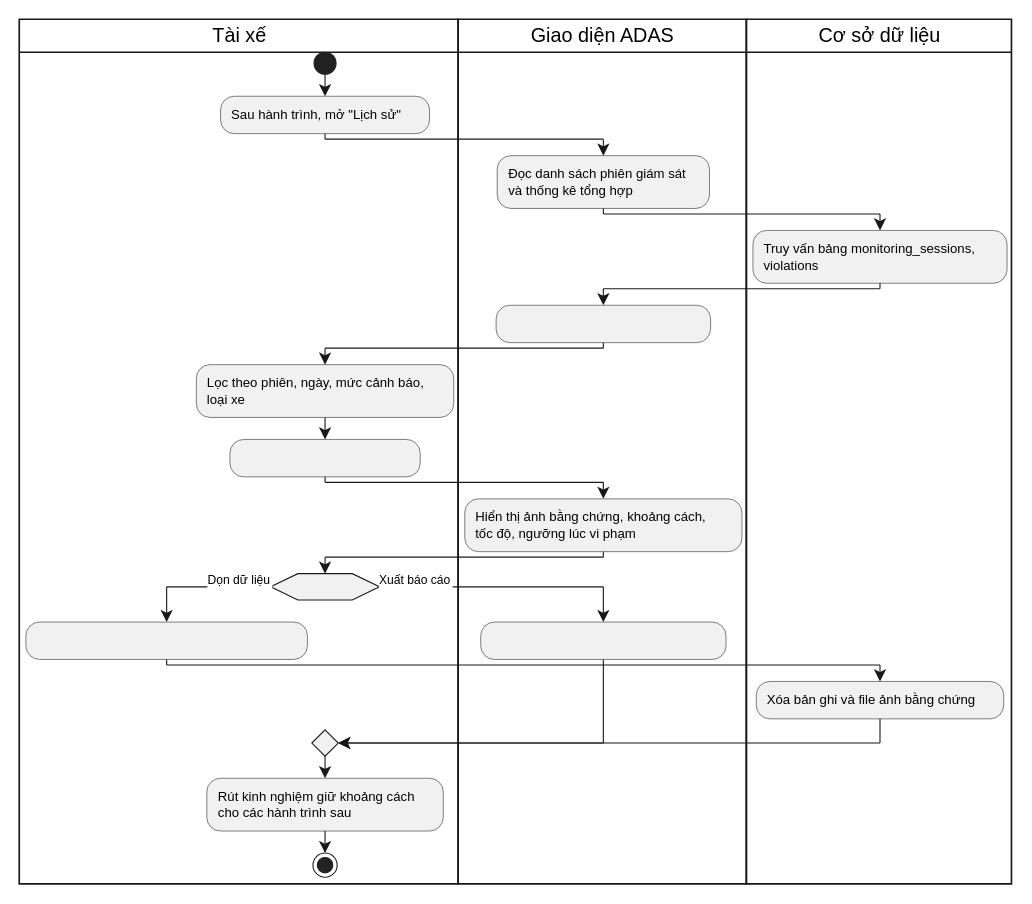
Some shapes in this 1032 by 904 pixel diagram are drawn without their labels. The centre of each missing label's shape, as x and y in pixels:
"Chọn một vi phạm để xem" goes at (x=324, y=458).
"Chọn vi phạm / phiên cần xóa, xác nhận" goes at (x=166, y=640).
"Hiển thị phiên và các vi phạm" goes at (x=602, y=323).
"Thao tác tiếp?" goes at (x=325, y=586).
"Xuất danh sách vi phạm ra file CSV" goes at (x=603, y=640).
